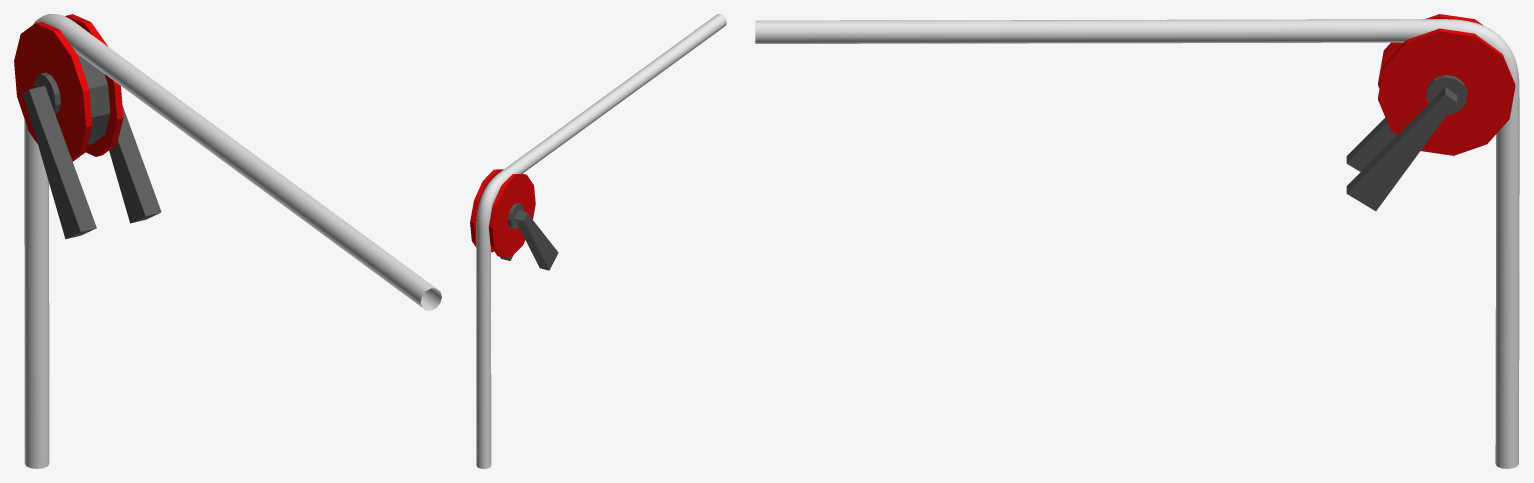
The model's file is Polea.fbx.
The picture shows the model from 3 angles, left to right: view 1: azimuth 30°, elevation 25°; view 2: azimuth 150°, elevation 25°; view 3: azimuth 270°, elevation 25°; orthographic projection. The views are drawn at different scales.
Visible parts, largest first — view 1: BézierCurve, Circle; view 2: BézierCurve, Circle; view 3: BézierCurve, Circle.
Boxes of the visible parts, left/top/right/bottom form: BézierCurve: left=24, top=14, right=441, bottom=468; Circle: left=14, top=14, right=161, bottom=239; BézierCurve: left=476, top=14, right=726, bottom=468; Circle: left=470, top=169, right=558, bottom=270; BézierCurve: left=755, top=19, right=1519, bottom=468; Circle: left=1346, top=14, right=1515, bottom=211.
Bounding box in the file's own units: 129 × 710 × 1108.
